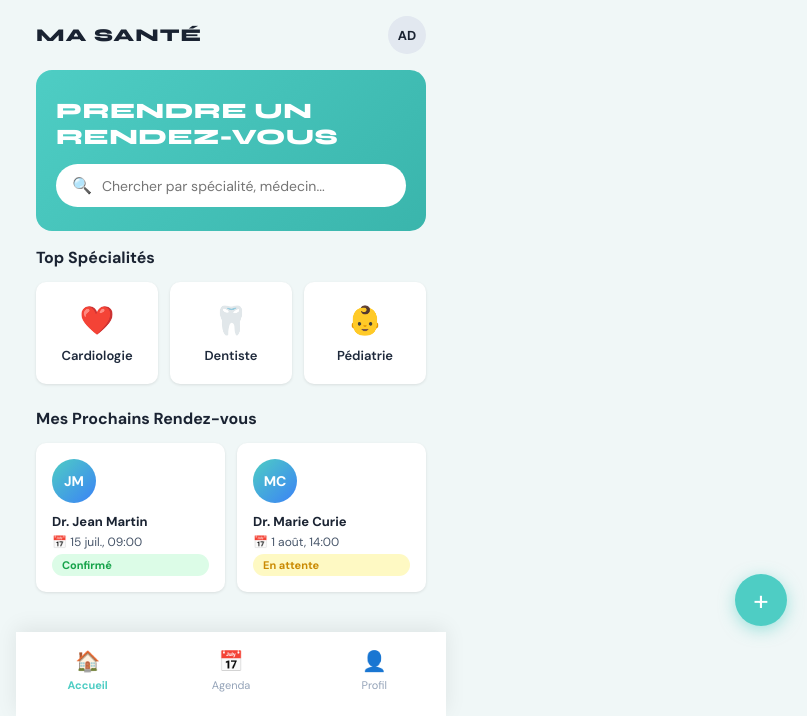
navigates to agenda tab
This screenshot has width=807, height=716.
Expected: the text "Dr. Jean Martin" is shown, left=52, top=513, right=148, bottom=530
Click the text "Agenda" at (231, 685), box left=212, top=678, right=250, bottom=692
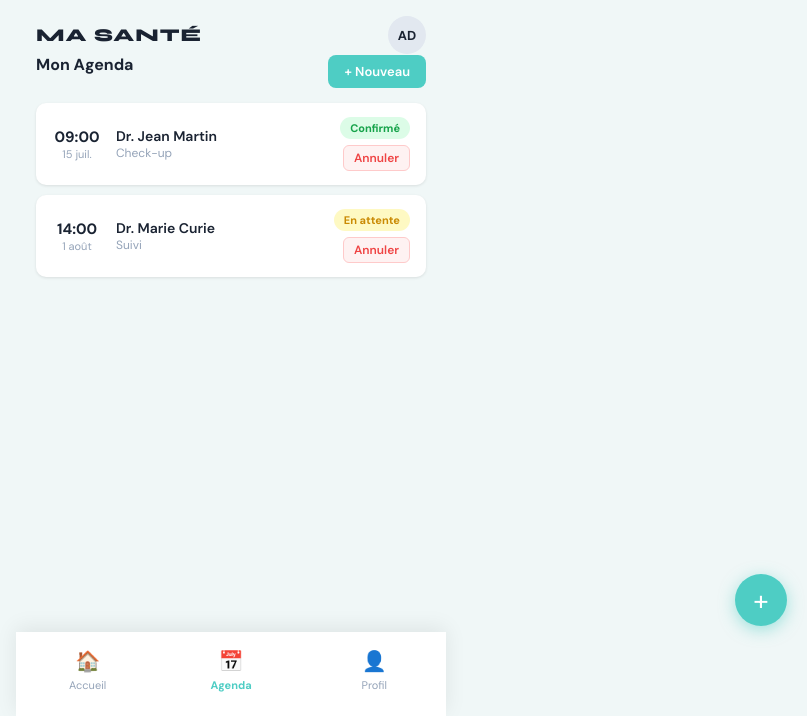
Expected: the heading "Mon Agenda" is shown, left=36, top=54, right=134, bottom=75
